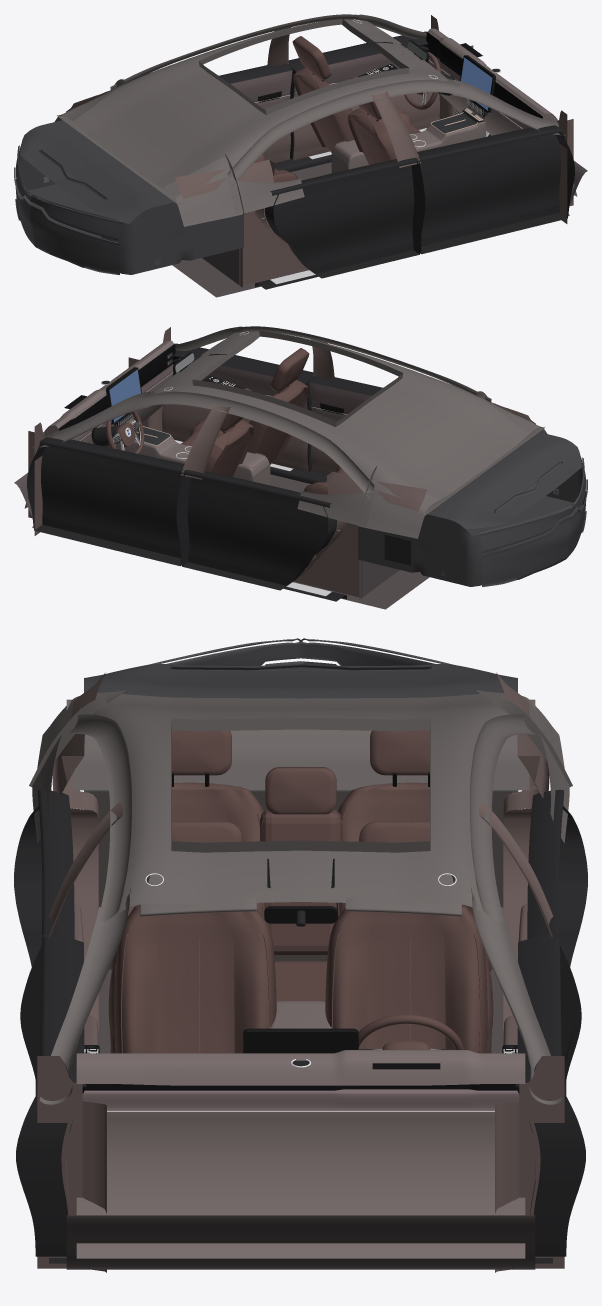
Rendered from denza-z9-interior.glb.
The picture shows the model from 3 angles, top to bottom: view 1: azimuth 30°, elevation 25°; view 2: azimuth 150°, elevation 25°; view 3: azimuth 270°, elevation 25°; orthographic projection. The views are drawn at different scales.
Parts seen in each view (by area): view 1: DenzaZ9_Cabin, int_headliner, int_door_R, int_rdoor_R, int_tailgate, int_door_L, int_rdoor_L, screen_main; view 2: DenzaZ9_Cabin, int_headliner, int_door_L, int_rdoor_L, int_tailgate, int_door_R, int_rdoor_R, screen_main; view 3: DenzaZ9_Cabin, int_headliner, int_door_L, int_door_R, int_rdoor_L, int_rdoor_R, int_tailgate.
Part boxes in pixels (box(x1,y1,x2,y2)): DenzaZ9_Cabin: box(16, 14, 587, 297); int_headliner: box(63, 19, 447, 196); int_door_R: box(417, 125, 574, 254); int_rdoor_R: box(262, 157, 423, 278); int_tailgate: box(14, 145, 122, 274); int_door_L: box(288, 31, 439, 160); int_rdoor_L: box(219, 63, 292, 163); screen_main: box(461, 57, 492, 110); DenzaZ9_Cabin: box(14, 326, 585, 609); int_headliner: box(154, 331, 538, 508); int_door_L: box(27, 437, 184, 566); int_rdoor_L: box(178, 469, 339, 590); int_tailgate: box(479, 457, 587, 586); int_door_R: box(162, 343, 313, 472); int_rdoor_R: box(309, 375, 382, 475); screen_main: box(109, 369, 140, 422); DenzaZ9_Cabin: box(27, 664, 574, 1272); int_headliner: box(80, 693, 521, 912); int_door_L: box(502, 936, 585, 1256); int_door_R: box(16, 936, 99, 1256); int_rdoor_L: box(518, 789, 587, 1095); int_rdoor_R: box(14, 789, 83, 1095); int_tailgate: box(151, 638, 450, 670).
Size of the model in its own units: 3.8 by 1.2 by 1.96.
33 materials, 2 textured.
